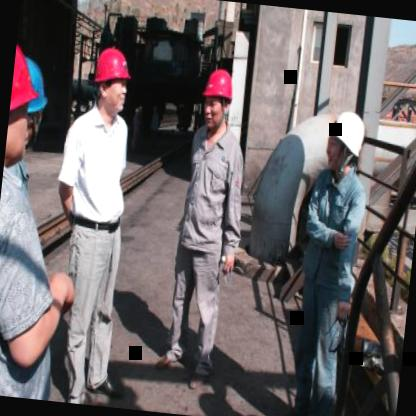helmet: (3, 31, 44, 172), (86, 38, 136, 121), (13, 50, 54, 150), (322, 104, 368, 182), (196, 61, 238, 135)
